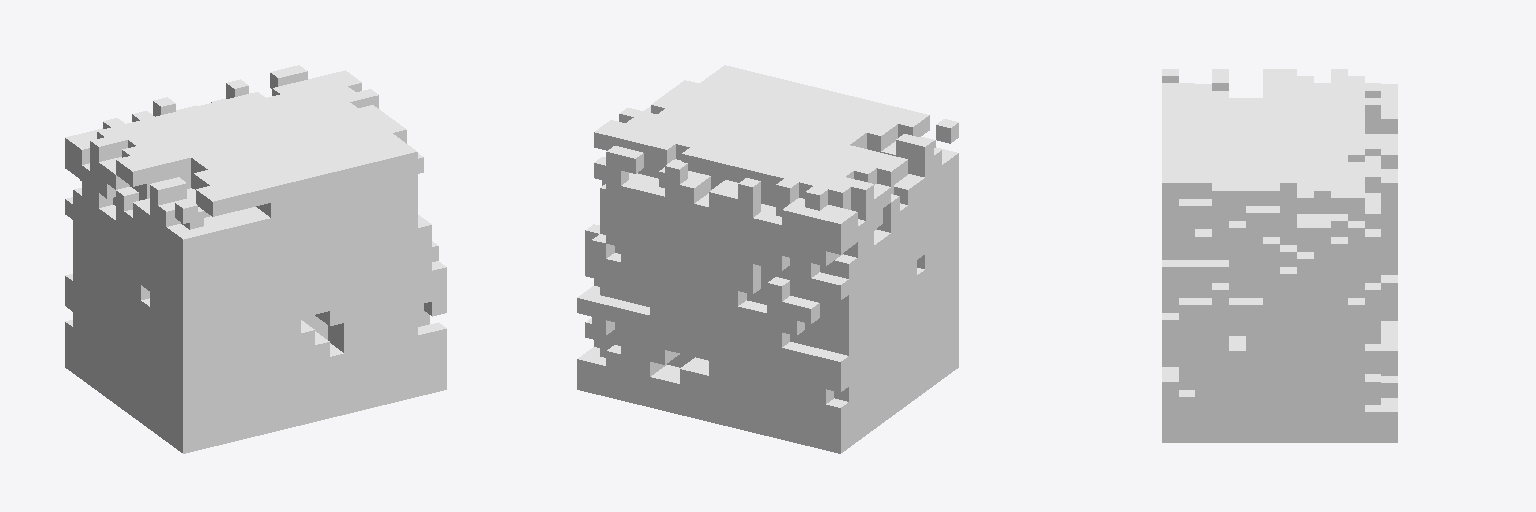
Rendered from House1-4.obj.
The picture shows the model from 3 angles: view 1: azimuth 30°, elevation 25°; view 2: azimuth 150°, elevation 25°; view 3: azimuth 270°, elevation 25°; orthographic projection.
Visible parts, largest first — view 1: object 1; view 2: object 1; view 3: object 1.
Boxes of the visible parts, <box> form: object 1: <box>65,65,446,453</box>; object 1: <box>577,65,958,453</box>; object 1: <box>1162,69,1397,442</box>.
Bounding box in the file's own units: 1.8 × 1.6 × 1.4.